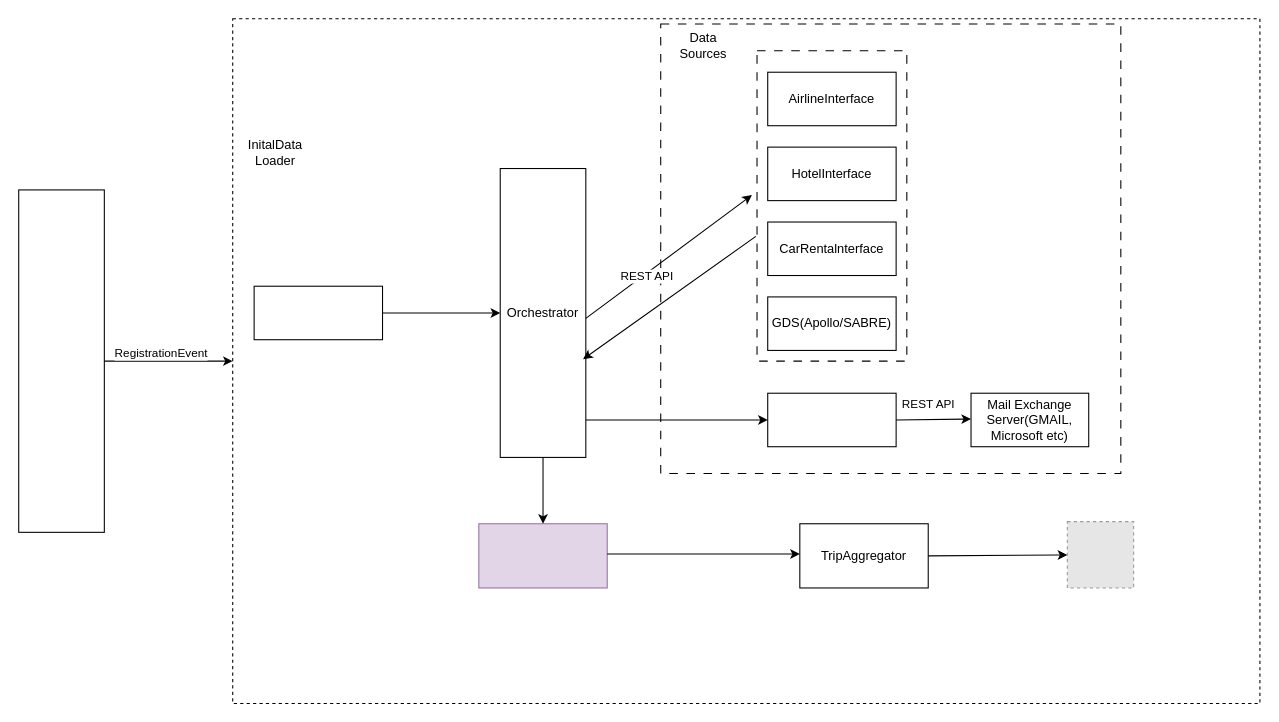
This 1279x722 diagram has some shape labels left out. Grey dashed boxes stand in for pictures. Here are the shapes that lost their labels. From the top down, the centre of each, then its label:
[318,312]: InitialDataLoader
[61,360]: Event Processing Platform
[831,419]: EmailPoller
[542,555]: Messaging Queue
